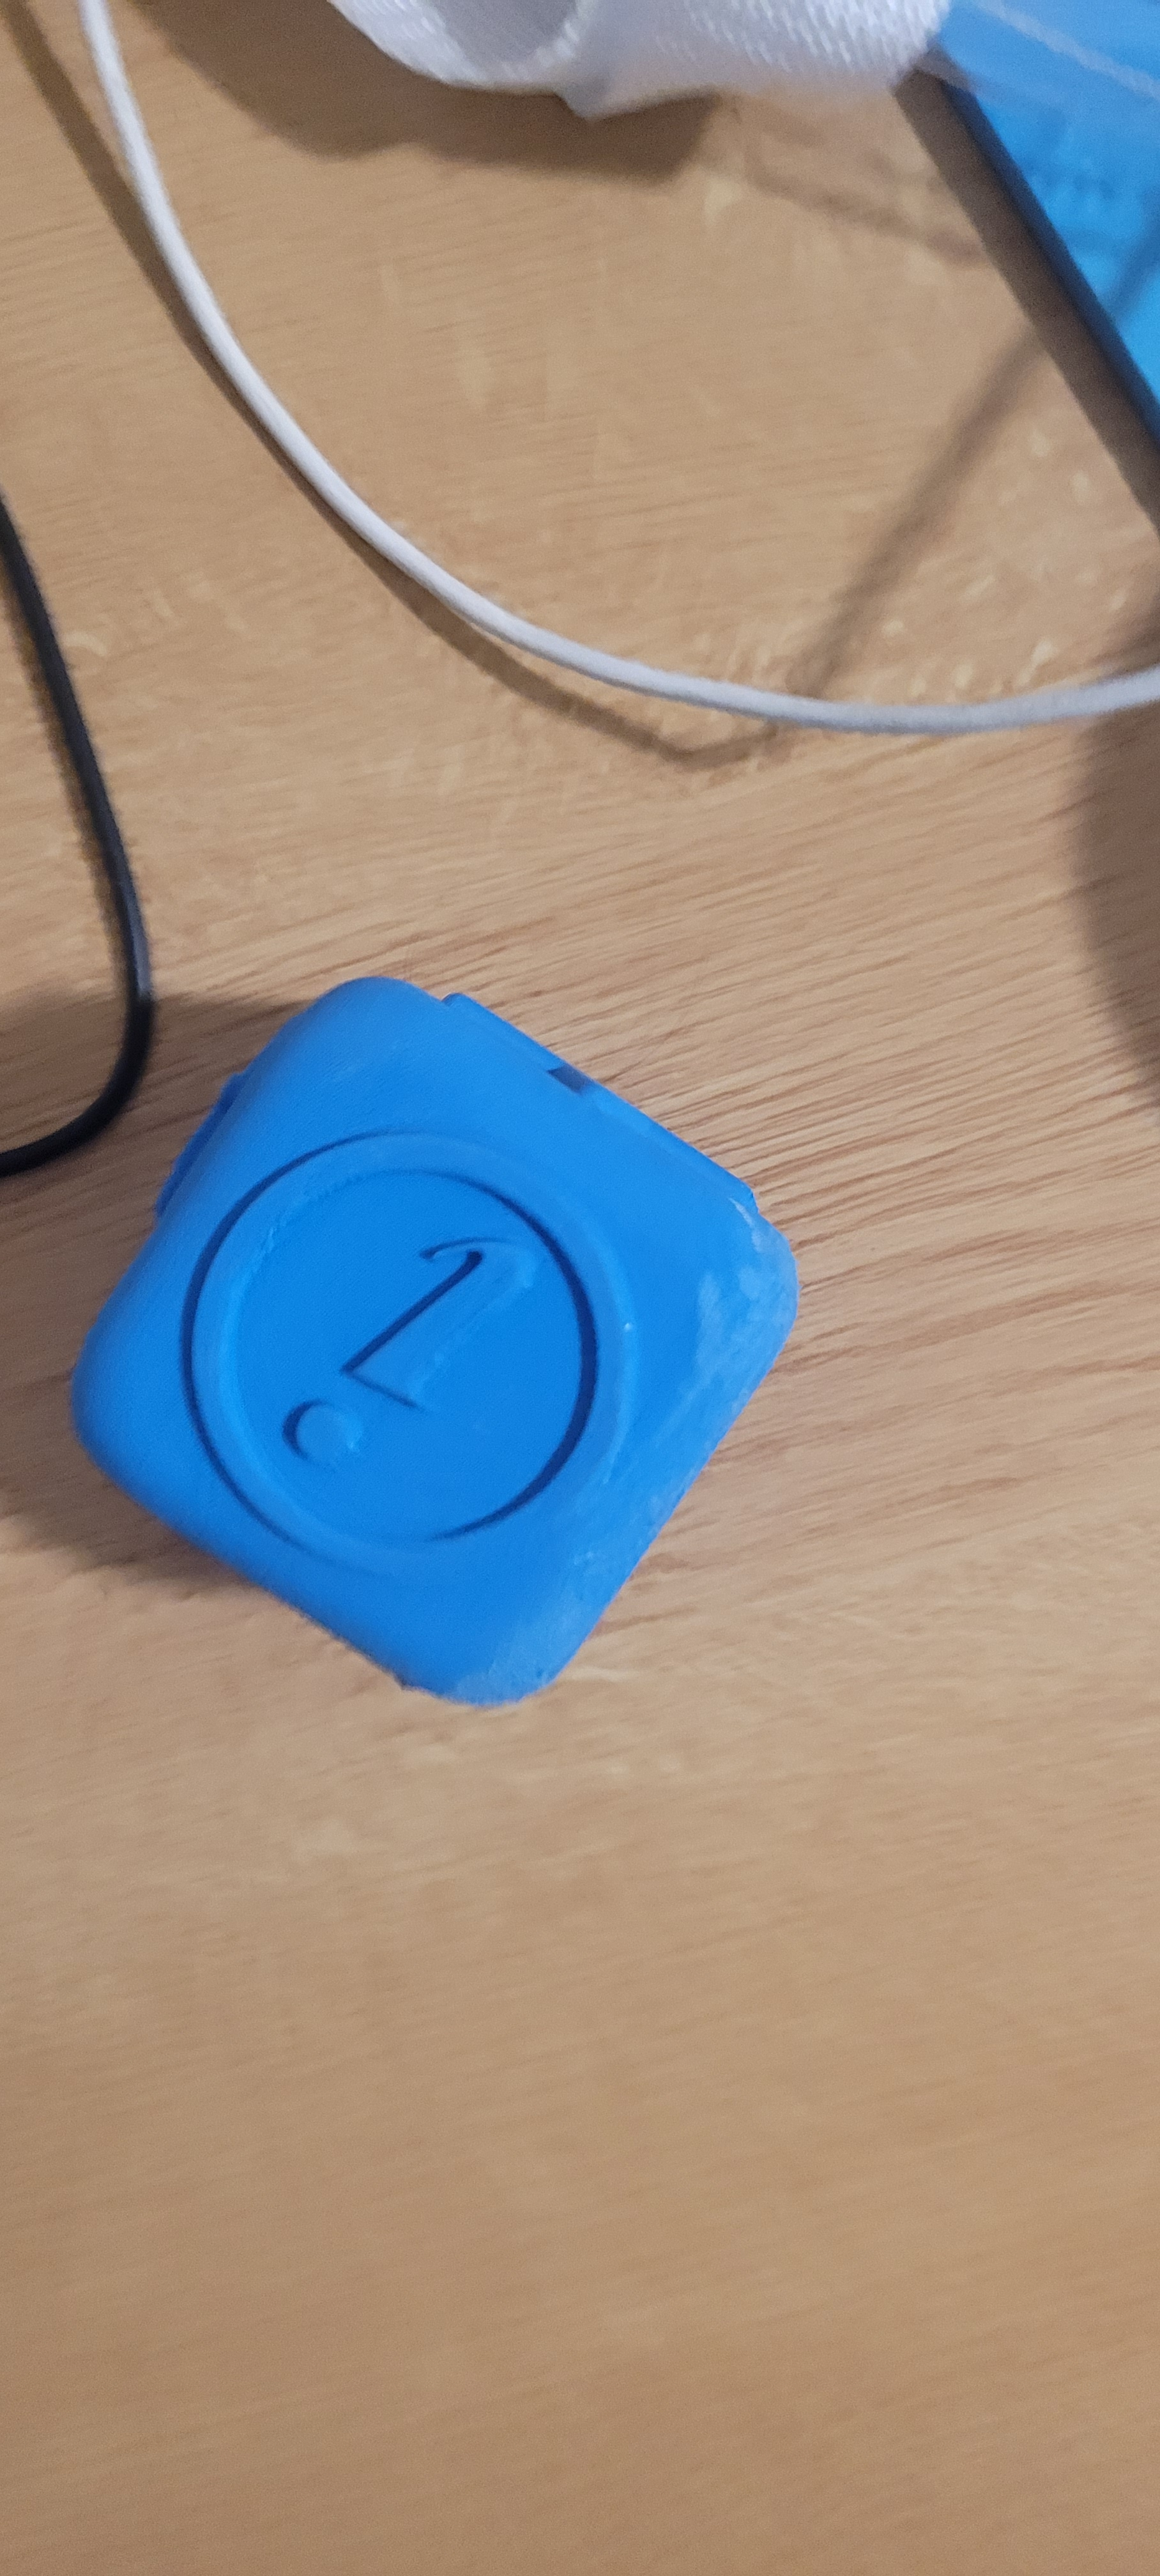Info: (112, 1063, 679, 1595)
